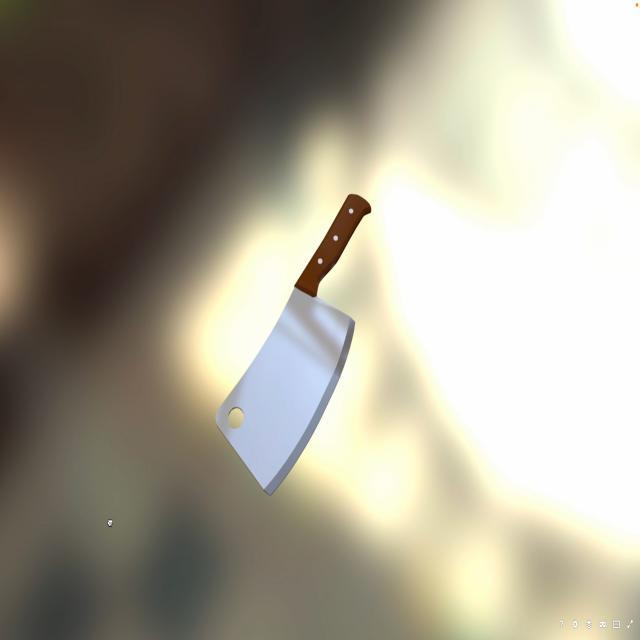cleaver: (216, 191, 374, 497)
